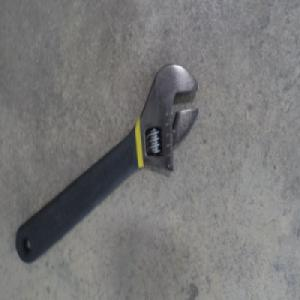AdjustableWrench: (15, 65, 198, 264)
